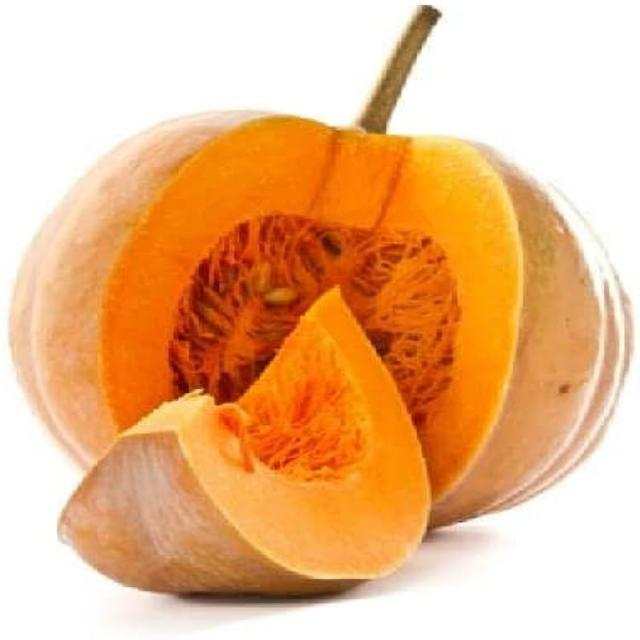Pumpkin: (20, 71, 619, 536), (16, 280, 431, 640)
